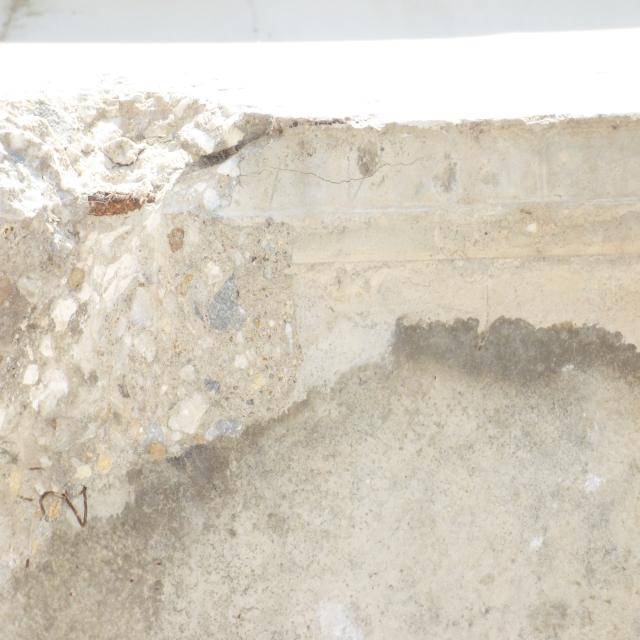corrosion: (30, 479, 100, 539), (84, 183, 162, 231)
